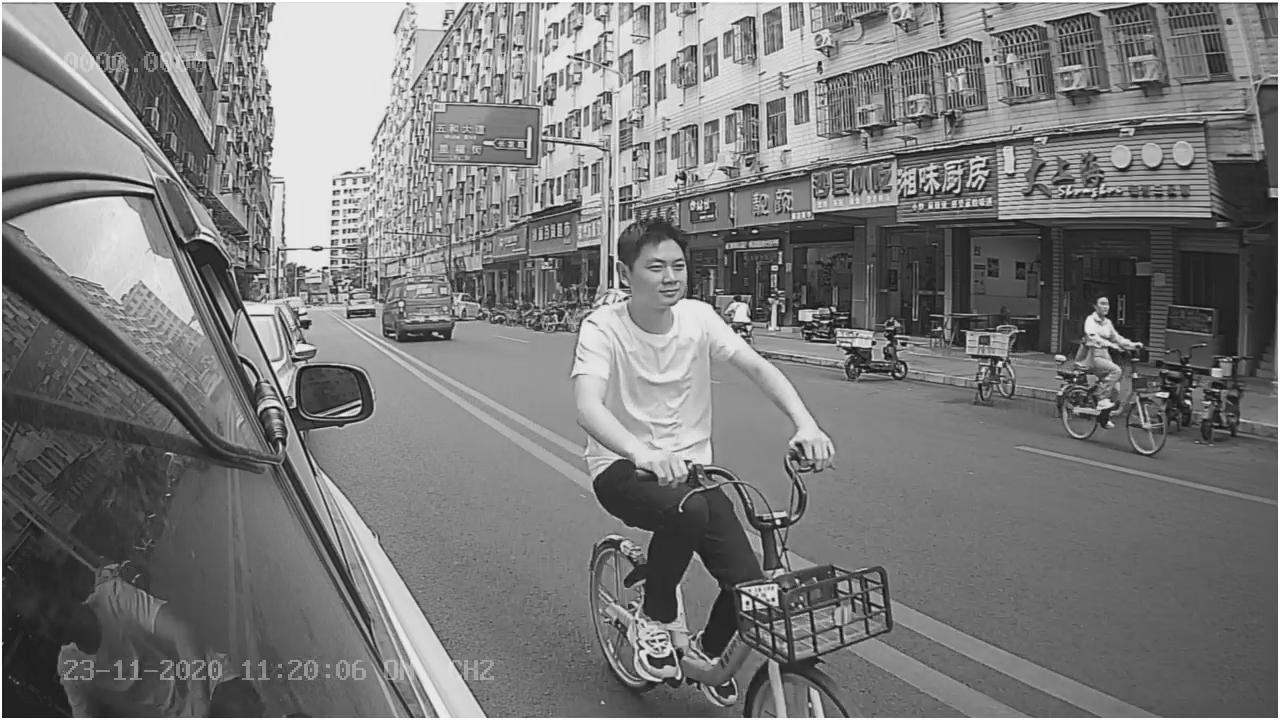person: (562, 217, 842, 483)
